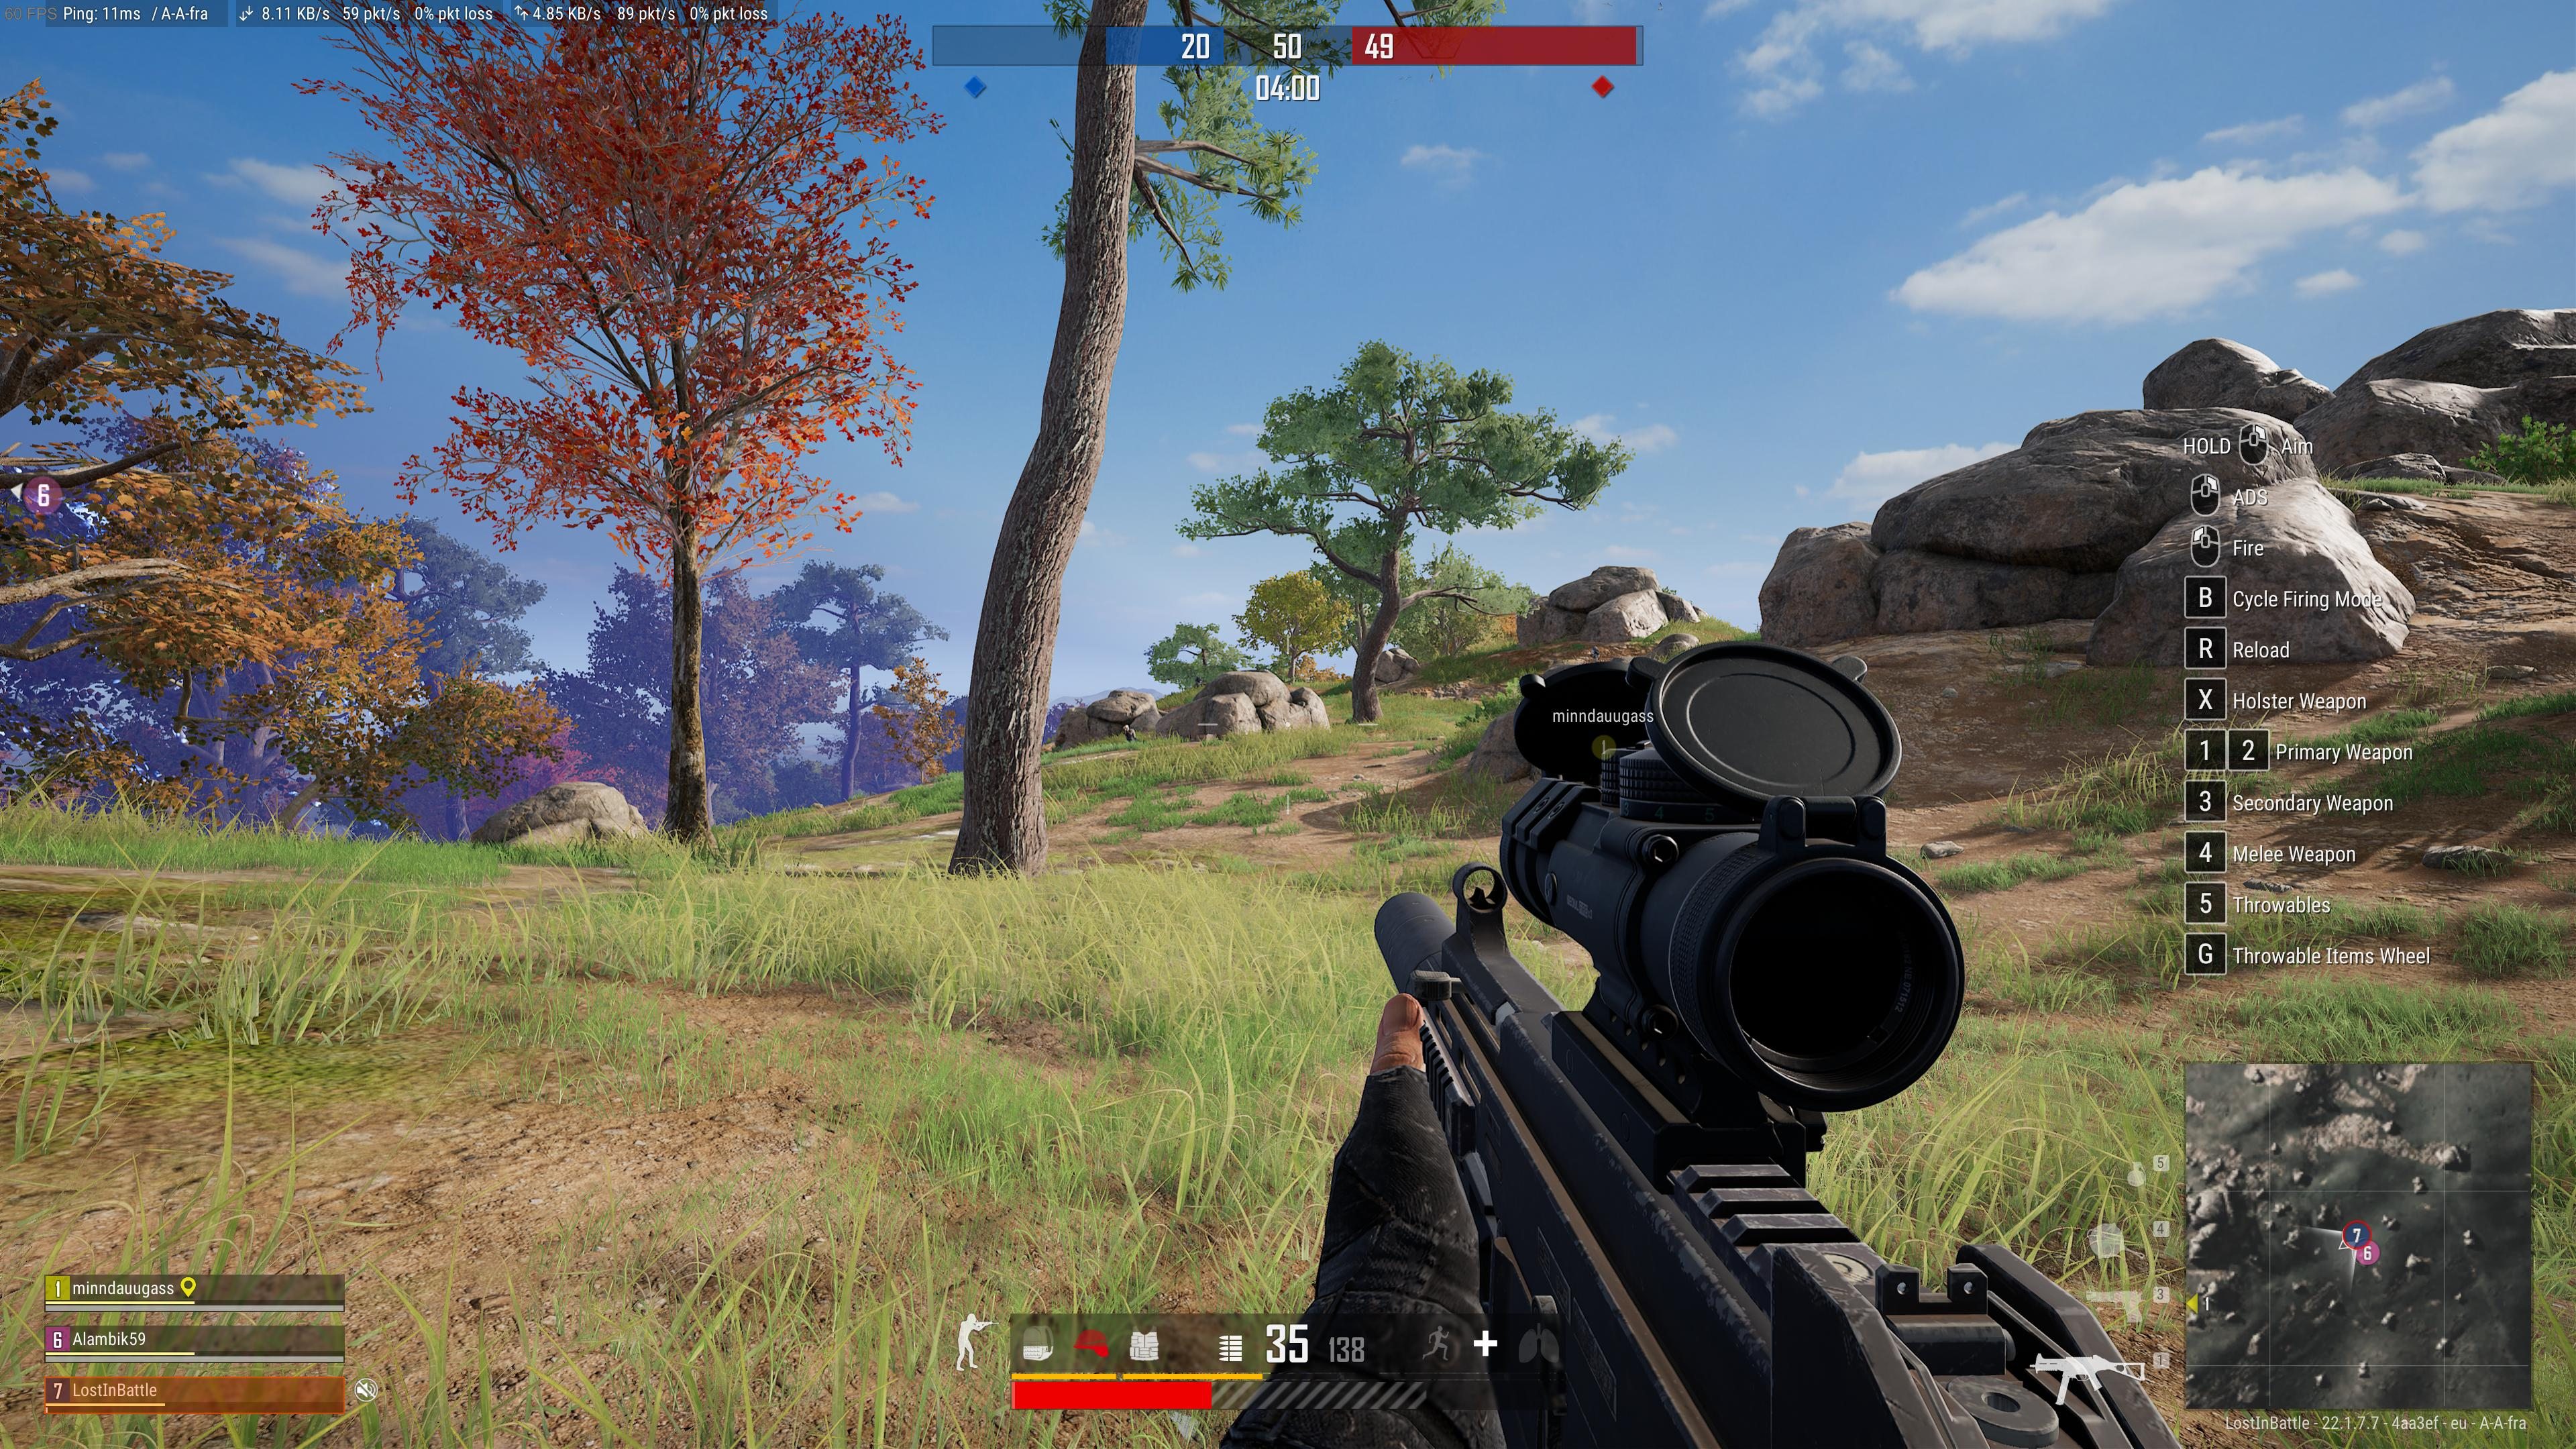enemy: (1122, 724, 1136, 741), (1194, 674, 1201, 686)
enemy_head: (1122, 724, 1131, 732)
